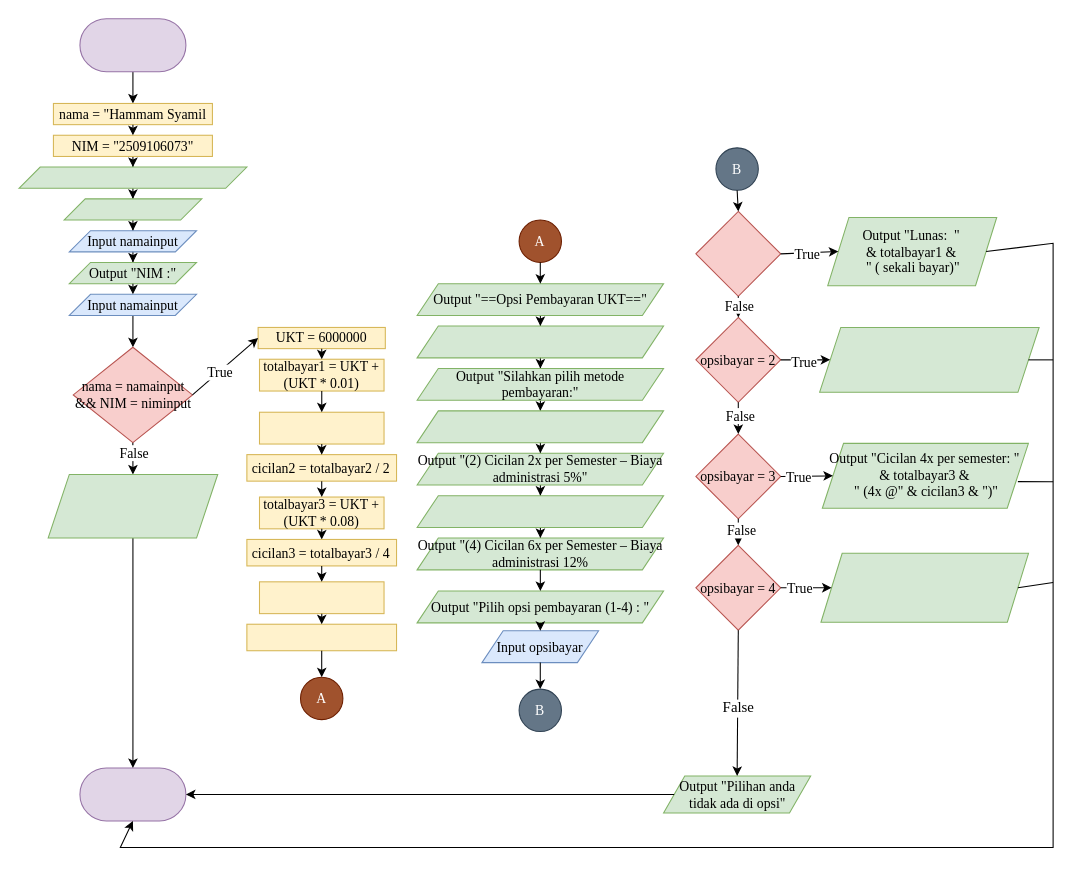
The diagram is 1073 pixels wide and 874 high, and some of its shapes have lost their labels. Here are the shapes that lost their labels. From the top down, the centre of each, then its label:
(132,45): Start
(132,177): Output "Login Pembayaran UKT"
(132,209): Output "Nama : "
(738,253): opsibayar = 1
(540,341): Output "Jumlah UKT : Rp."&UKT
(929,359): Output "Cicilan 2x per semester: " & totalbayar2 & " (2x @" & cicilan2 & ")"
(321,427): totalbayar2 = UKT + (UKT * 0.05)
(540,426): Output "(1) Lunas (1x Bayar) – Biaya administrasi 1%"
(132,505): Output "Login gagal, nama atau NIM yang anda masukkan salah"
(540,511): Output "(3) Cicilan 4x per Semester – Biaya administrasi 8%
(321,597): totalbayar4 = UKT + (UKT * 0.12)
(924,587): Output "Cicilan 6x per semester: " & totalbayar4 & " (6x @" & cicilan4 & ")"
(321,637): cicilan4 = totalbayar4 / 6
(132,794): End
